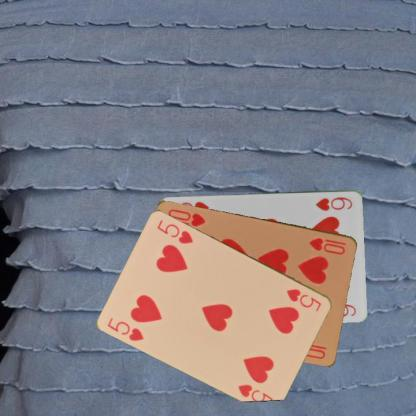10h: (307, 234, 348, 256)
5h: (105, 315, 146, 343), (284, 286, 323, 312)
6h: (313, 194, 354, 212)
